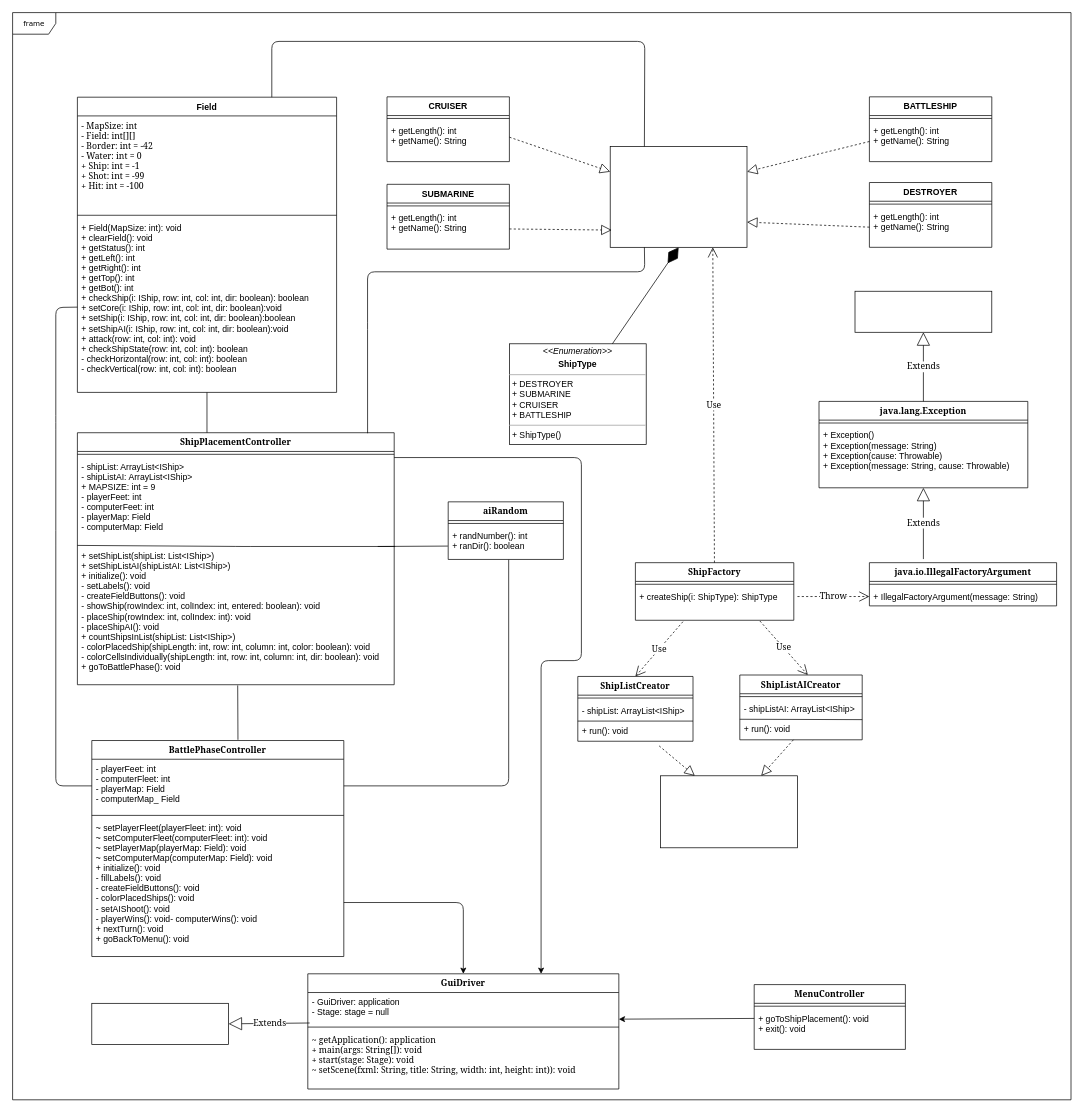
This 1084x1112 diagram has some shape labels left out. The shapes that lost their labels are listed below. From the top down, each one's centre as x and y in pixels, then its label:
point 678,196: <<Interface>> IShip + getLength(): int + getName(): String
point 923,311: java.lang.Throwable
point 728,811: <<Interface>> Runnable + run(): void //abstract
point 160,1023: {abstract] Application
